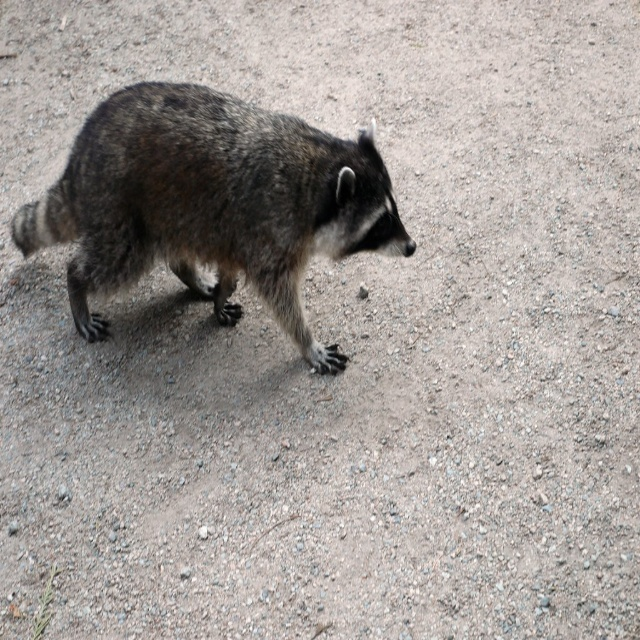Raccoon: (12, 81, 416, 375)
